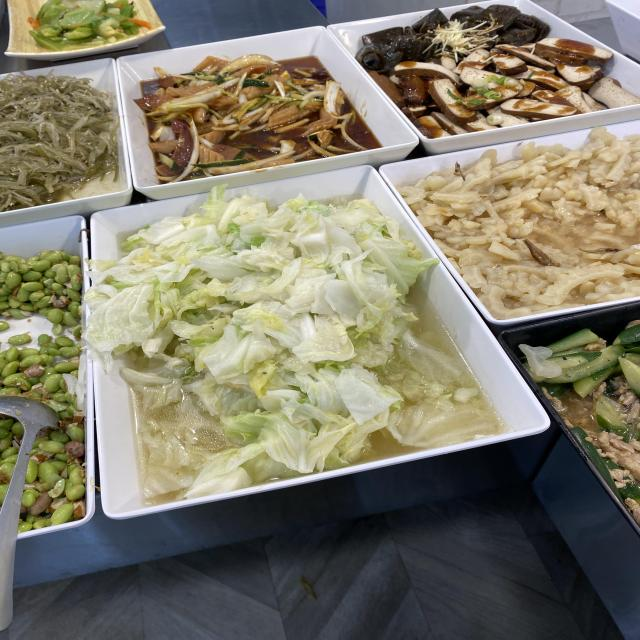bitter gourd: (475, 160, 638, 277)
cabbage: (149, 246, 404, 429)
